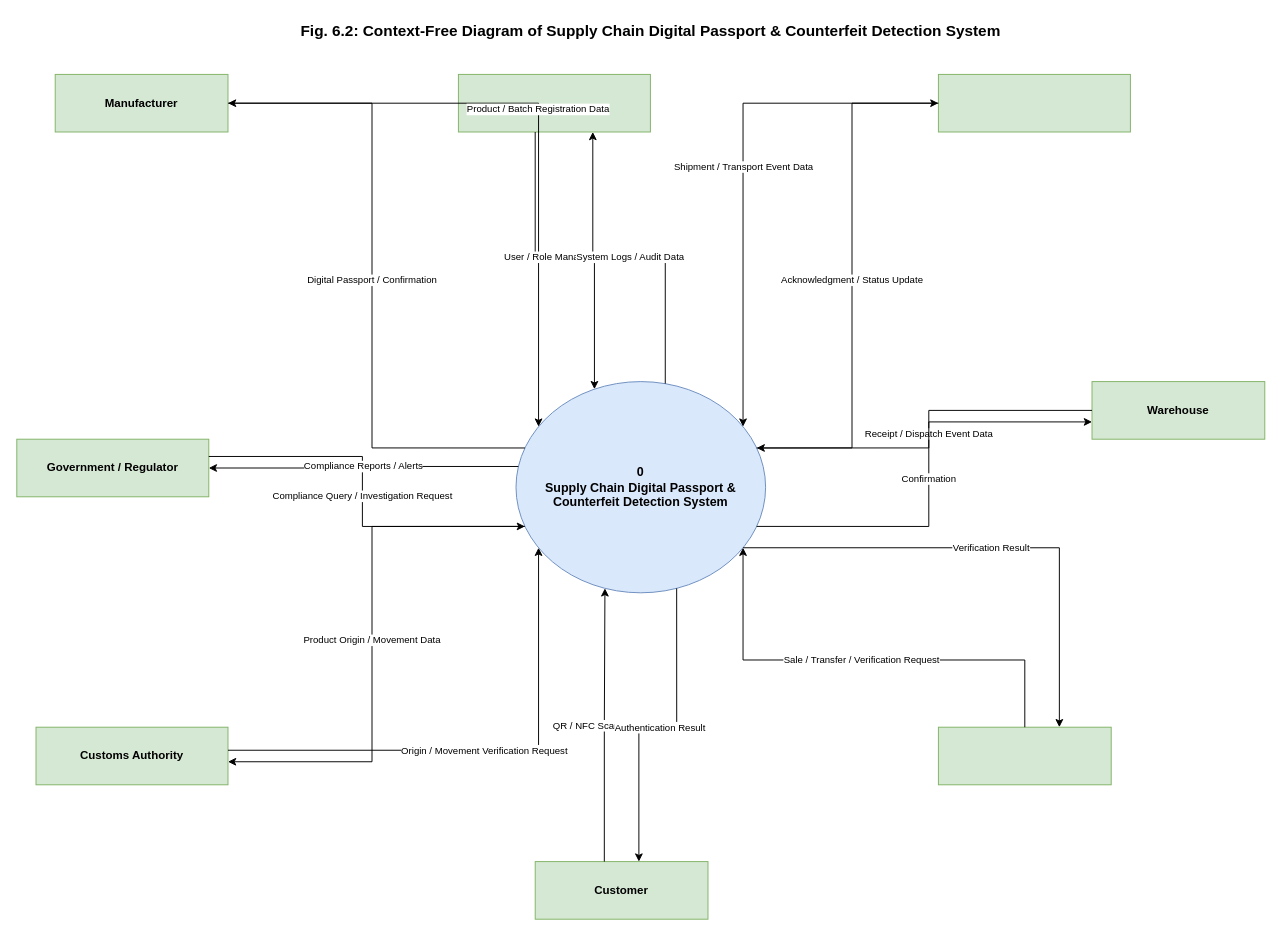
This 1282x936 diagram has some shape labels left out. The shapes that lost their labels are listed below. From the top down, each one's centre as x and y in pixels, then its label:
(x=553, y=102): System Administrator
(x=1033, y=102): Logistics Provider
(x=1024, y=755): Retailer
